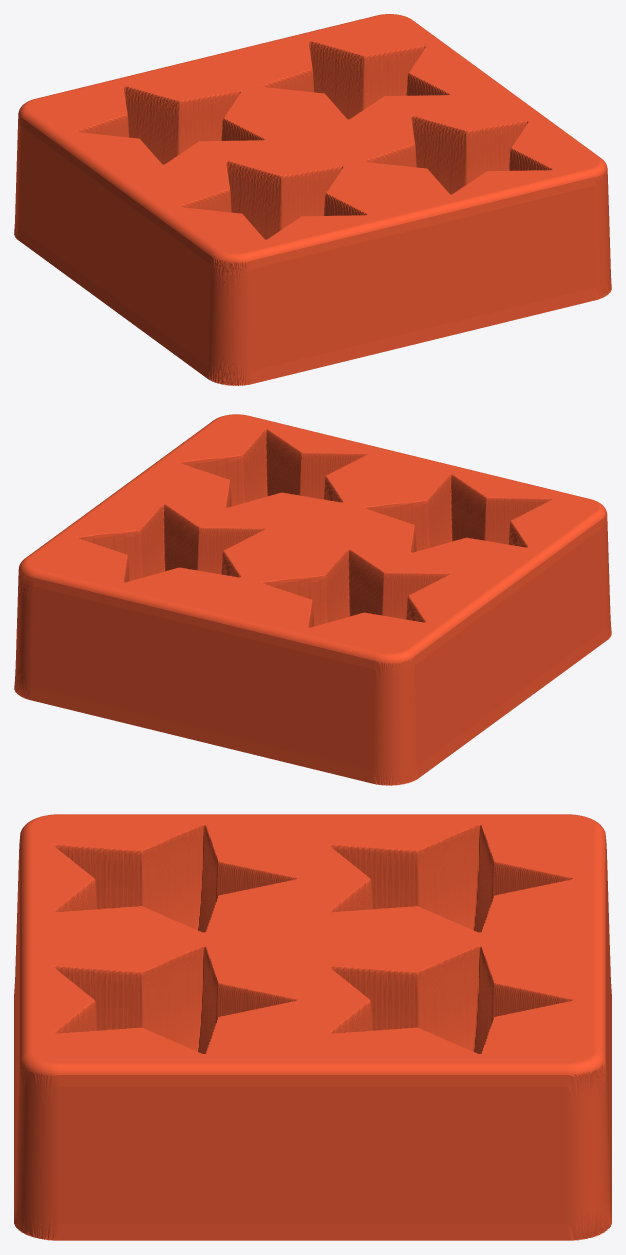
Rendered from mold.glb.
3 renders of one model, top to bottom at view 1: azimuth 30°, elevation 25°; view 2: azimuth 150°, elevation 25°; view 3: azimuth 270°, elevation 25°, orthographic. The views are drawn at different scales.
Visible parts, largest first — view 1: geometry_0; view 2: geometry_0; view 3: geometry_0.
Part boxes in pixels (x1,y1,x2,y2): geometry_0: [14, 14, 611, 385]; geometry_0: [14, 414, 611, 785]; geometry_0: [14, 814, 611, 1240].
Bounding box in the file's own units: 0.1248 × 0.0378 × 0.1201.
